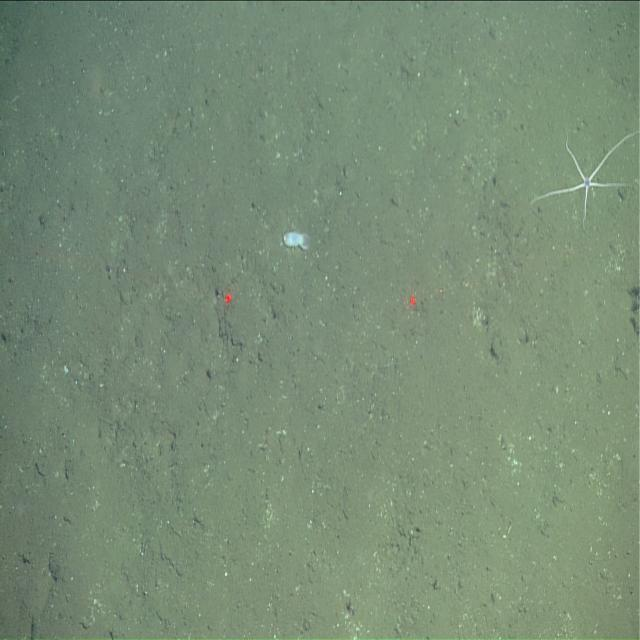Brittle Star: (533, 119, 639, 233)
Not Brittle Star: (282, 226, 311, 253)
